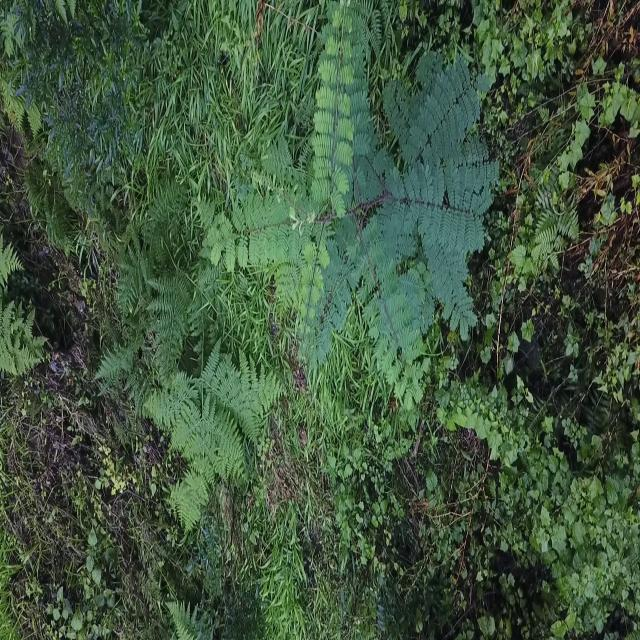Mysore-Thorn-Weed: (208, 22, 493, 360)
